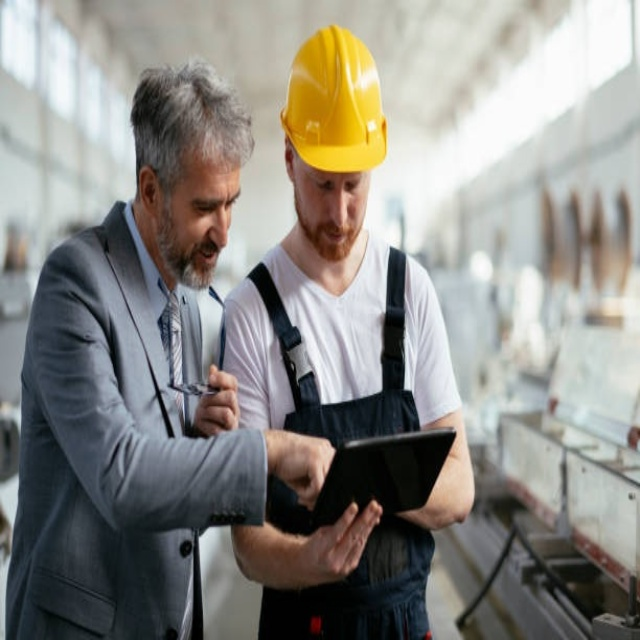Sin_gafas: (179, 180, 246, 226), (306, 168, 366, 198)
Sin_guantes: (308, 497, 382, 583), (191, 359, 245, 435), (284, 433, 334, 510)
Sin_mascara: (316, 221, 357, 256), (188, 246, 224, 281)
